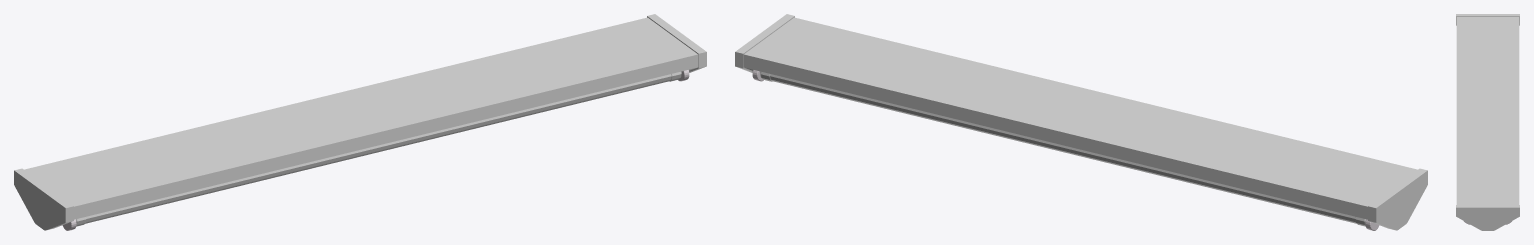
The model's file is Tubosluz.fbx.
The picture shows the model from 3 angles, left to right: view 1: azimuth 30°, elevation 25°; view 2: azimuth 150°, elevation 25°; view 3: azimuth 270°, elevation 25°; orthographic projection. The views are drawn at different scales.
Visible parts, largest first — view 1: Cube.013, Symmetry_1; view 2: Cube.013, Symmetry_1; view 3: Cube.013.
Part boxes in pixels (box(x1,y1,x2,y2)): Cube.013: box(14, 14, 706, 230); Symmetry_1: box(85, 74, 671, 223); Cube.013: box(735, 14, 1427, 230); Symmetry_1: box(770, 74, 1356, 223); Cube.013: box(1456, 14, 1519, 230).
Bounding box in the file's own units: 150 × 8.48 × 20.96.
